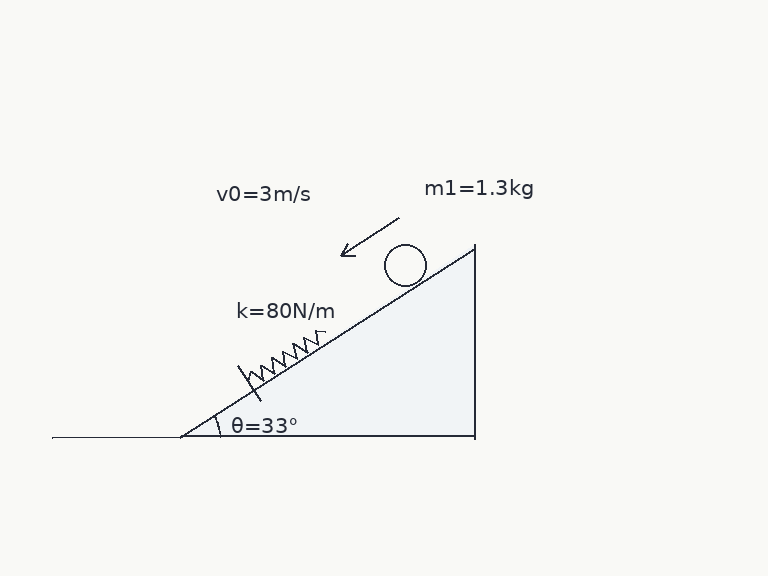ball: (382, 242, 428, 288)
ramp: (178, 243, 476, 438)
spring: (246, 327, 327, 383)
